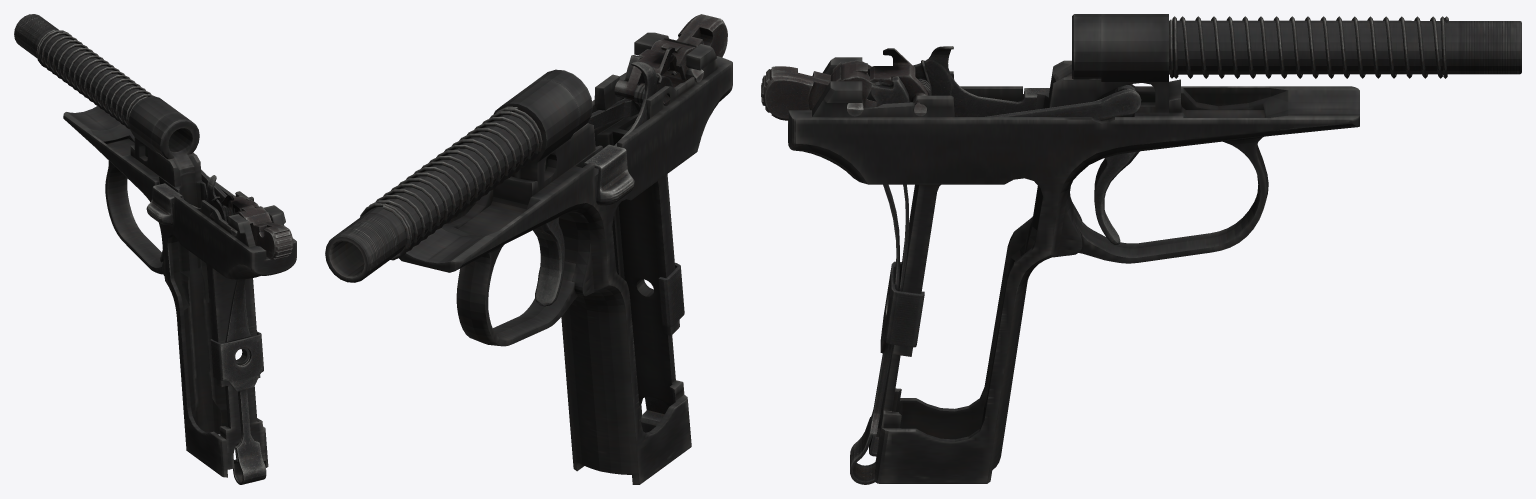
3 renders of one model, left to right at view 1: azimuth 30°, elevation 25°; view 2: azimuth 150°, elevation 25°; view 3: azimuth 270°, elevation 25°, orthographic. The views are drawn at different scales.
Parts seen in each view (by area): view 1: TW_579204f224597773d619e051_PZ_Import; view 2: TW_579204f224597773d619e051_PZ_Import; view 3: TW_579204f224597773d619e051_PZ_Import.
Boxes of the visible parts, x1,y1,x2,y2 form: TW_579204f224597773d619e051_PZ_Import: (14, 14, 296, 484); TW_579204f224597773d619e051_PZ_Import: (325, 14, 732, 484); TW_579204f224597773d619e051_PZ_Import: (761, 14, 1521, 484).
Bounding box in the file's own units: 0.0137 × 0.1051 × 0.0701.
1 material, 1 textured.
